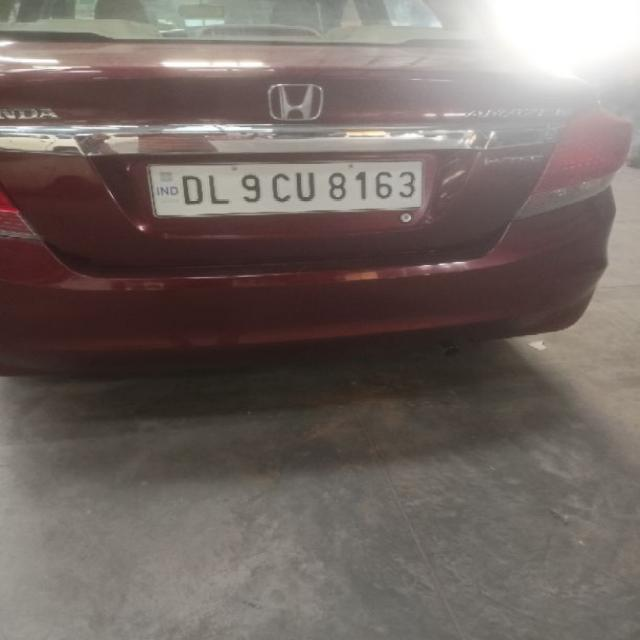license_plate: (146, 158, 424, 218)
